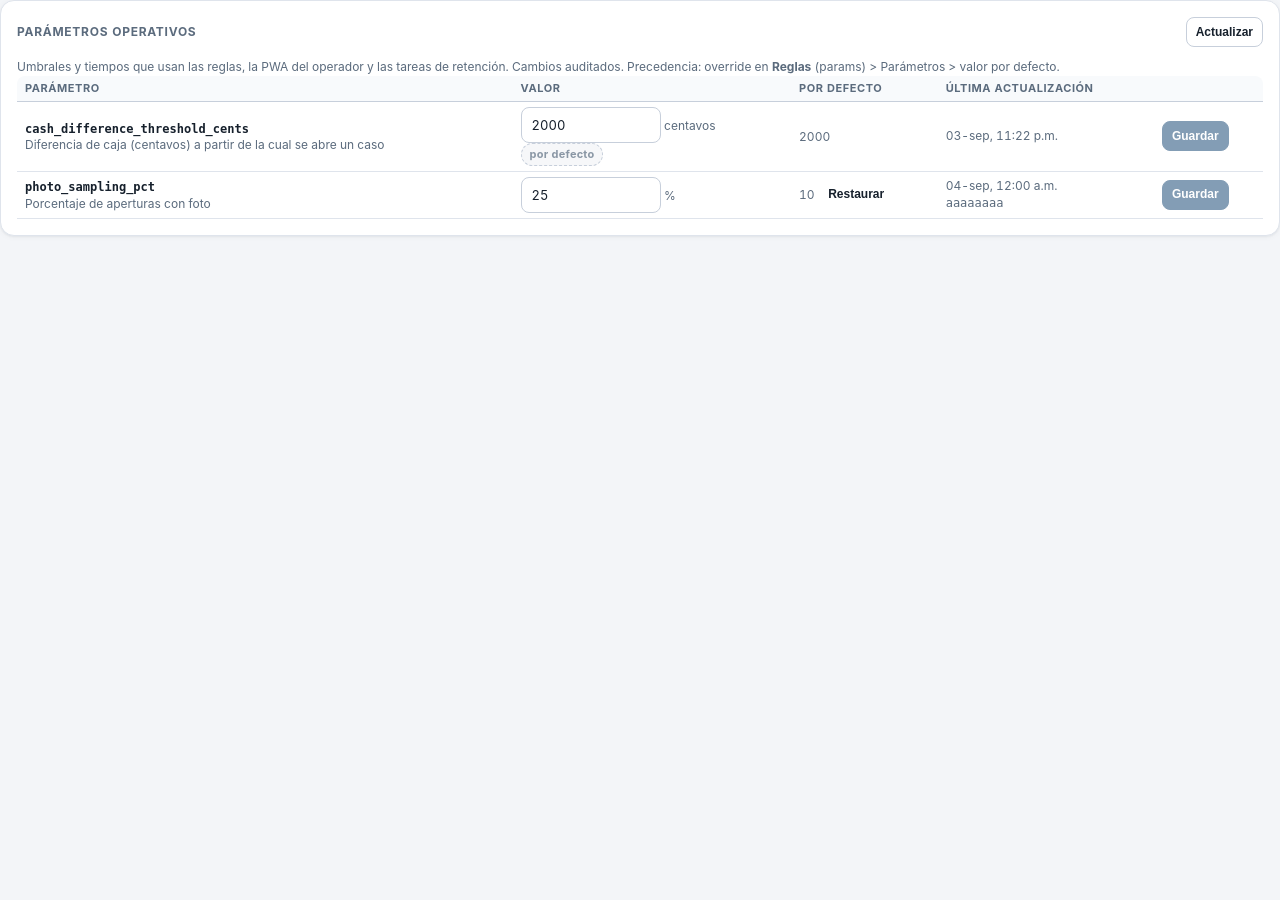
Scenario: SettingsTab (Parámetros) › guarda por fila con PUT y refleja el valor devuelto
Expected: the button with test id "save-cash_difference_threshold_cents" is disabled, [1162,121,1229,151]
Replace the text in the number field named "Valor de cash_difference_threshold_cents" with "3000": (591, 125) [521,107,661,143]
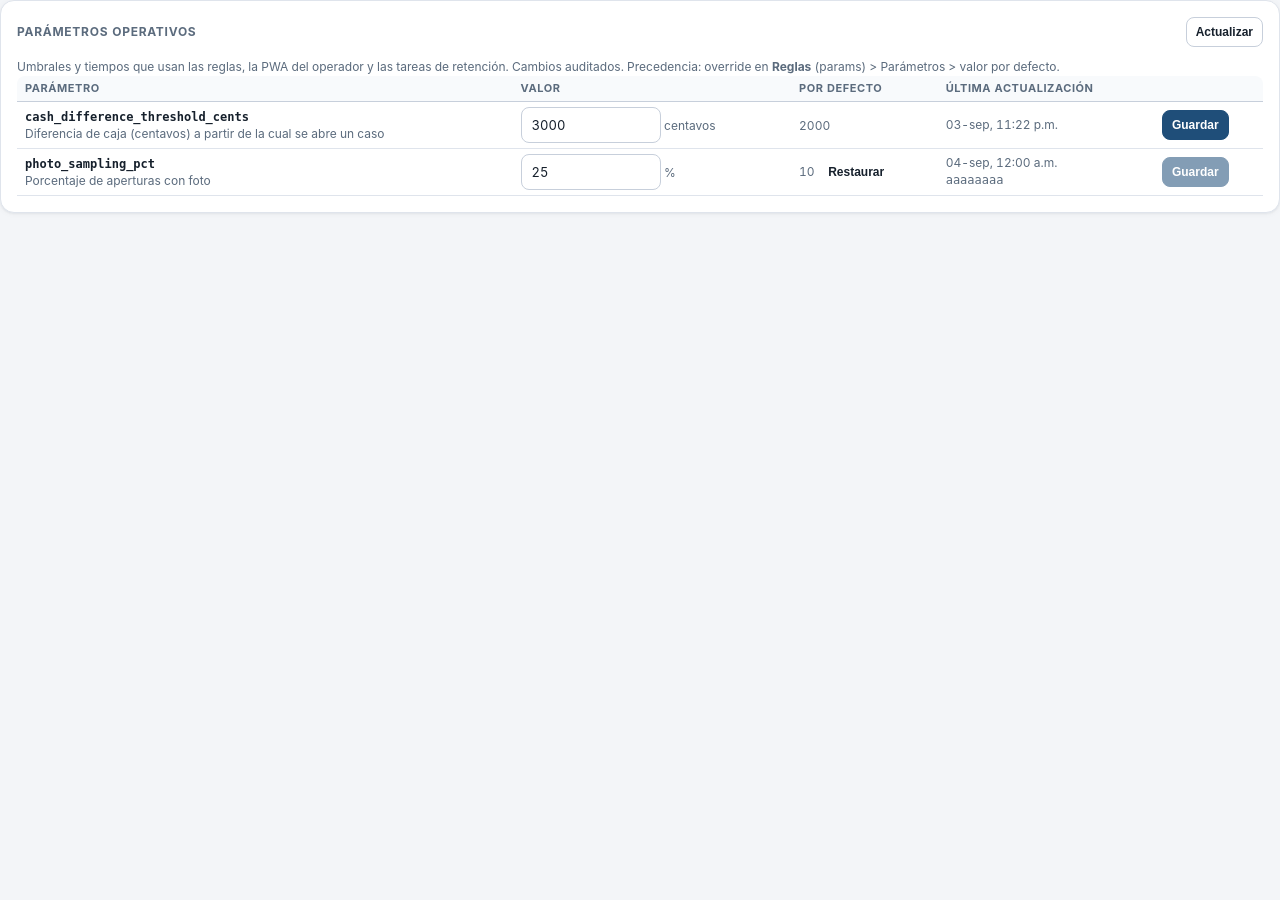
Result: the button with test id "save-cash_difference_threshold_cents" is enabled
Click the button with test id "save-cash_difference_threshold_cents": (1195, 125) [1162,110,1229,140]
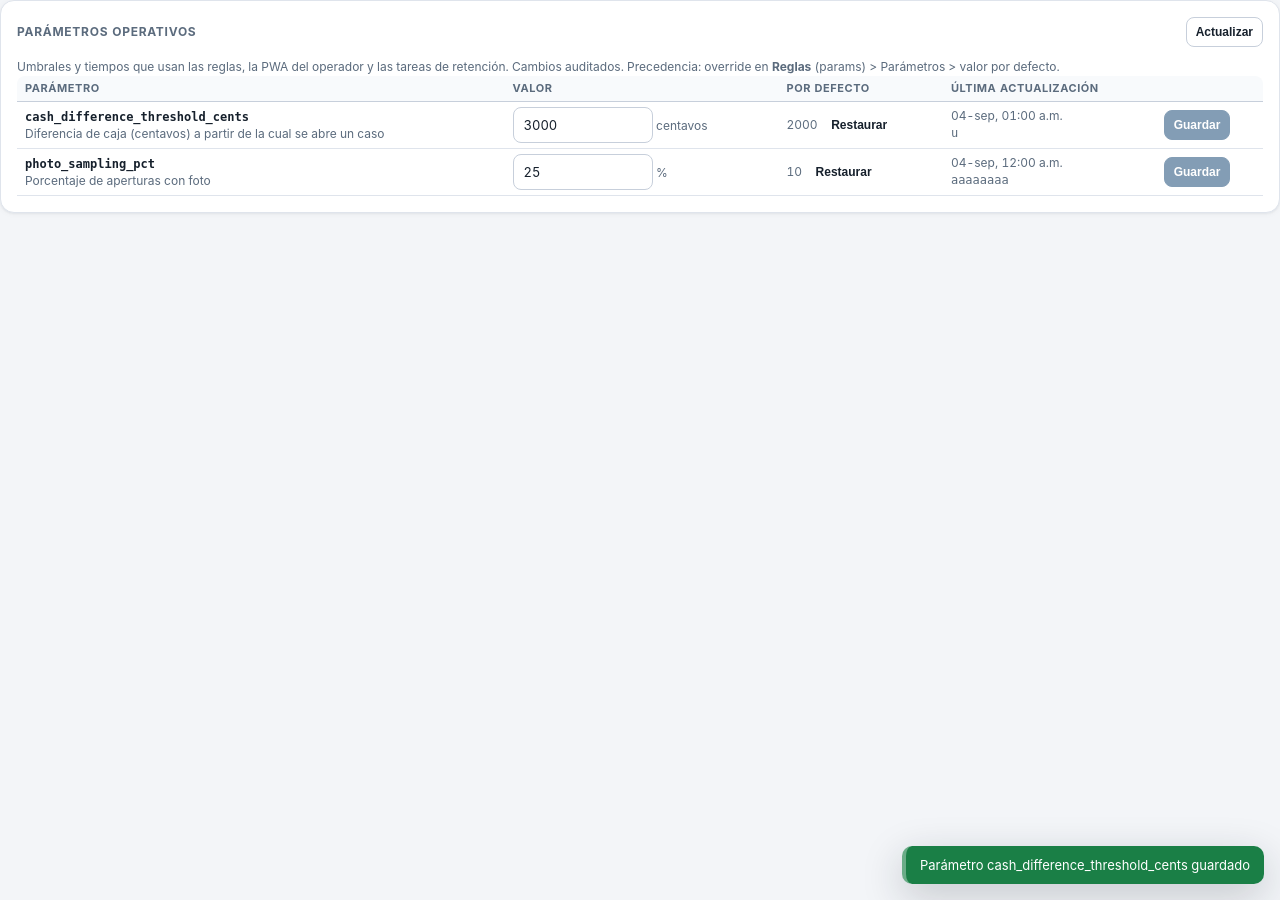
Expected: the row with test id "setting-cash_difference_threshold_cents" does not show "por defecto", [17,102,1263,149]
Result: the text "Parámetro cash_difference_threshold_cents guardado" is shown at [902,846,1264,884]
Result: the button with test id "save-cash_difference_threshold_cents" is disabled at [1164,110,1230,140]
